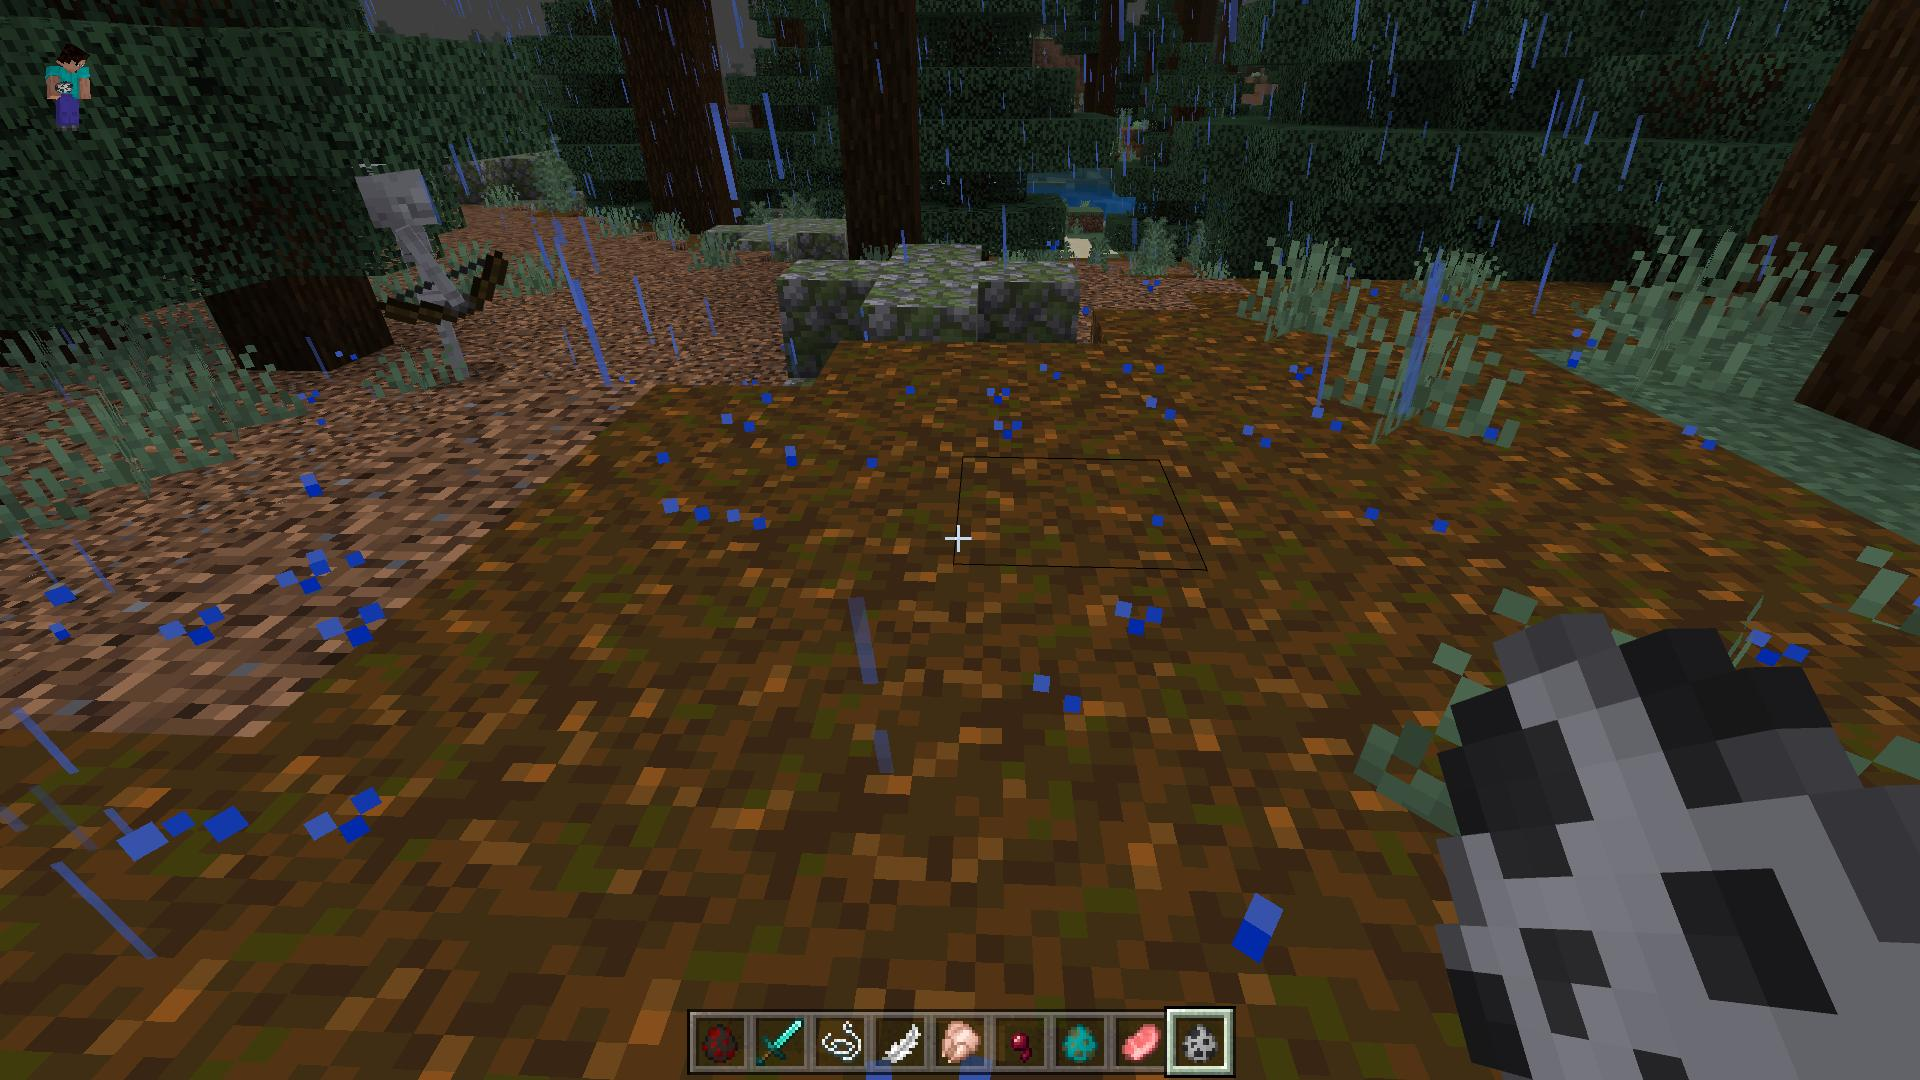skeleton: (352, 164, 512, 385)
